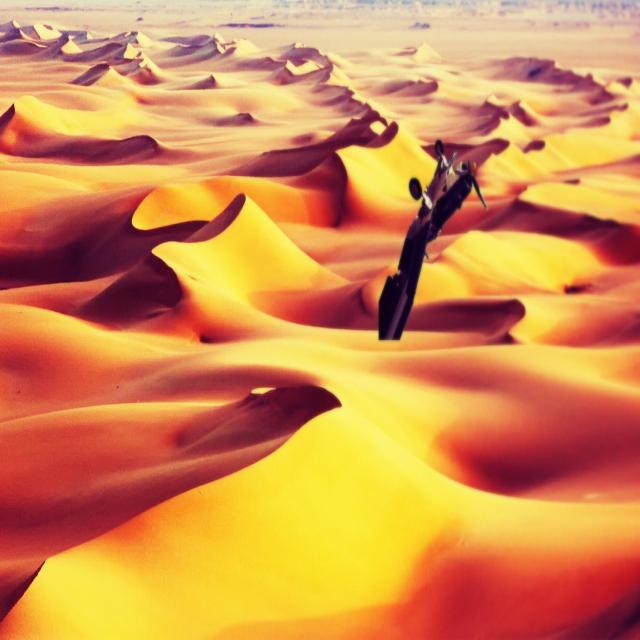airplane: (378, 137, 488, 341)
